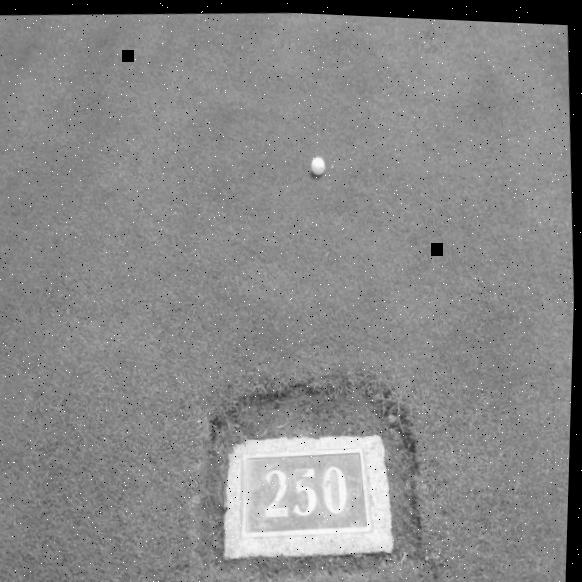GolfBall: (306, 147, 330, 177)
